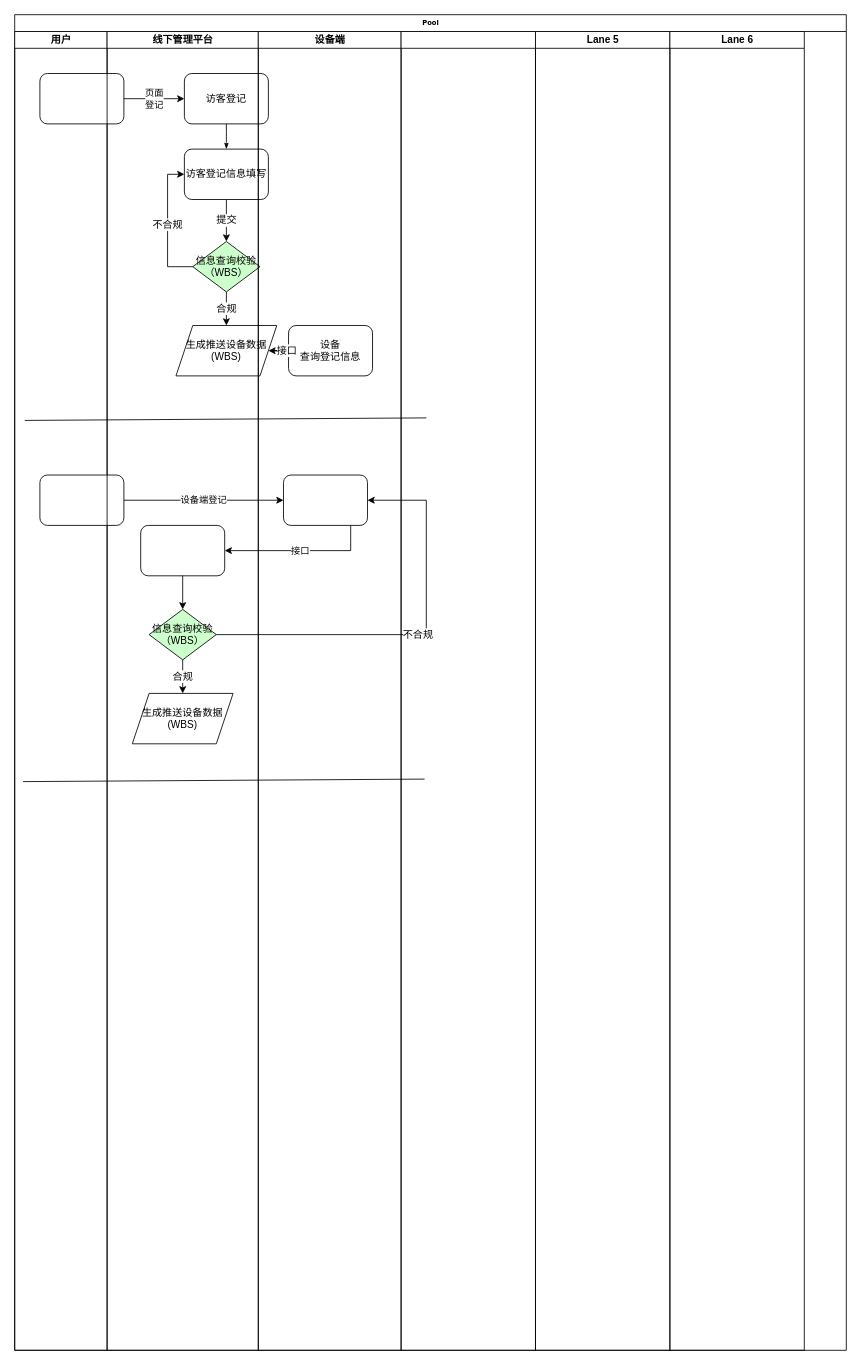
Image size: 861x1365. Some labels were removed from this diagram. The shapes that lost their labels are listed below. From the top down, each one's centre as x and y in pixels, then its label:
At pixel 81 98: "后台登记".
At pixel 81 499: "现场登记".
At pixel 325 499: "设备端 访客登记".
At pixel 182 550: "平台后端接口逻辑".
At pixel 468 690: "Lane 4".
